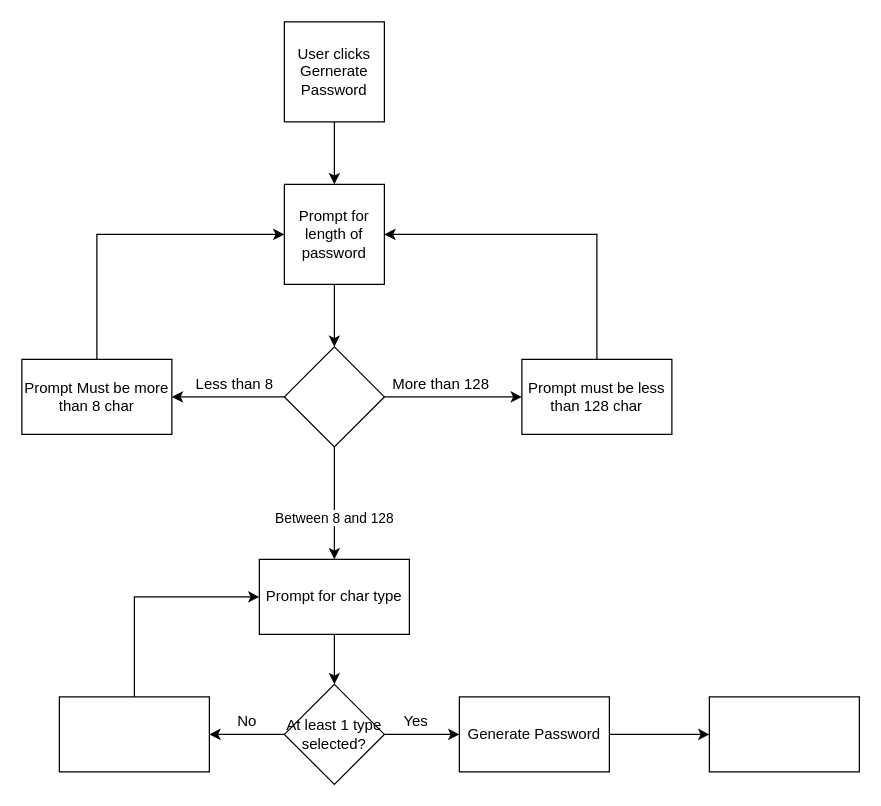
The diagram is 881 pixels wide and 806 high, and some of its shapes have lost their labels. Each missing label, with the centre of its shape:
"Display password" goes at (783,734).
"pass Len" goes at (333,396).
"Prompt Must select a char type" goes at (133,734).
